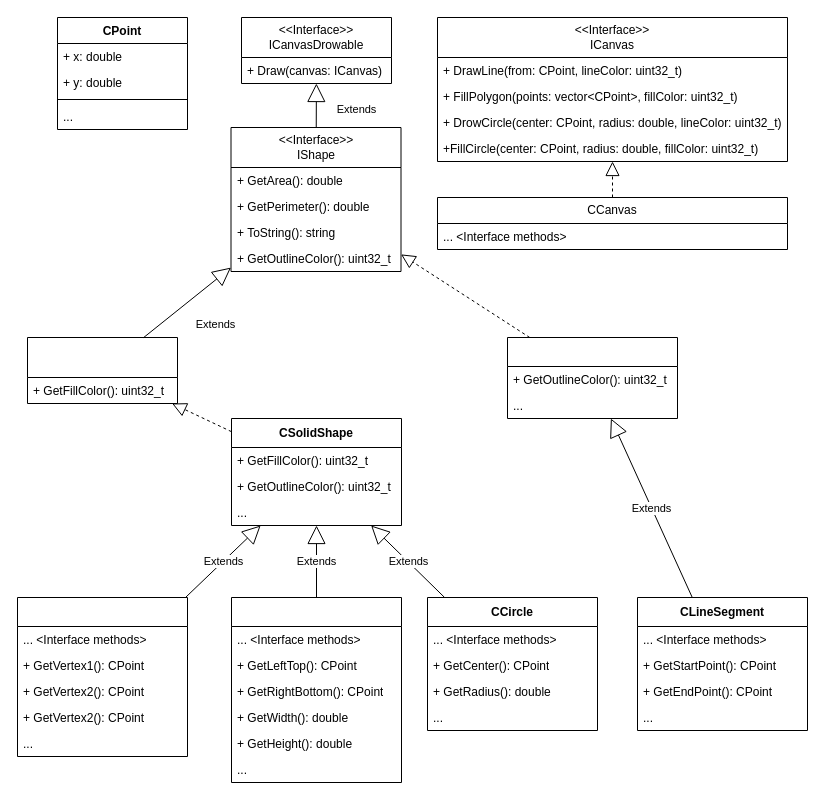
Image size: 825x803. Some labels were removed from this diagram. Here are the shapes that lost their labels. From the top down, the box of each, then its label:
(26, 336, 178, 404): <<Interface>> ISolidShape
(506, 336, 678, 418): CShape
(16, 596, 188, 756): CTriangle
(230, 596, 402, 782): CRectangle
